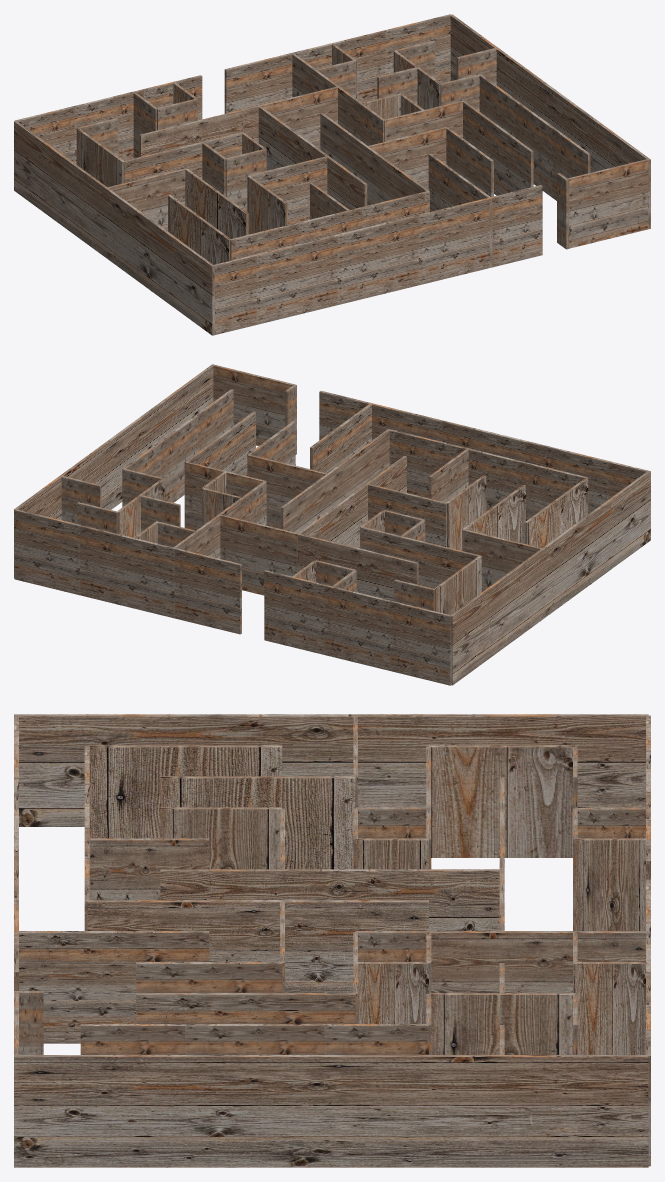
The model's file is el_laberinto.glb.
3 views of the same model, one above another, from view 1: azimuth 30°, elevation 25°; view 2: azimuth 150°, elevation 25°; view 3: azimuth 270°, elevation 25° (orthographic). The views are drawn at different scales.
Parts seen in each view (by area): view 1: Cube.020, Cube.051, Cube.052, Cube.036, Cube.014, Cube.050, Cube.037, Cube.019, Cube.041, Cube.060, Cube.038, Cube.033 (+28 smaller); view 2: Cube.052, Cube.051, Cube.050, Cube.020, Cube.036, Cube.019, Cube.037, Cube.041, Cube.013, Cube.033, Cube.014, Cube.070 (+26 smaller); view 3: Cube.036, Cube.051, Cube.041, Cube.049, Cube.022, Cube.060, Cube.056, Cube.037, Cube.054, Cube.045, Cube.044, Cube.038 (+16 smaller).
Boxes of the visible parts, x1,y1,x2,y2 form: Cube.020: (212,185,542,334); Cube.051: (14,121,214,335); Cube.052: (224,14,450,113); Cube.036: (450,14,650,229); Cube.014: (566,159,649,248); Cube.050: (15,75,202,164); Cube.037: (479,74,590,200); Cube.019: (230,191,429,260); Cube.041: (320,113,429,211); Cube.060: (258,106,367,209); Cube.038: (463,101,533,195); Cube.033: (139,105,259,156); Cube.052: (14,509,241,634); Cube.051: (450,471,650,685); Cube.050: (264,570,451,685); Cube.020: (319,391,648,514); Cube.036: (14,364,213,578); Cube.019: (388,429,587,520); Cube.037: (122,389,233,506); Cube.041: (281,429,389,533); Cube.013: (220,514,298,595); Cube.033: (298,534,418,601); Cube.014: (213,364,295,445); Cube.070: (360,527,480,588); Cube.036: (14,1055,648,1167); Cube.051: (14,714,648,826); Cube.041: (87,900,428,992); Cube.049: (429,745,575,857); Cube.022: (14,931,209,1043); Cube.060: (160,869,501,930); Cube.056: (429,931,648,992); Cube.037: (80,1024,428,1054); Cube.054: (87,745,282,838); Cube.045: (160,776,355,869); Cube.044: (429,993,575,1054); Cube.038: (136,993,355,1023).
Bounding box in the file's own units: 16.6 × 2.5 × 13.05.
1 material, 1 textured.
